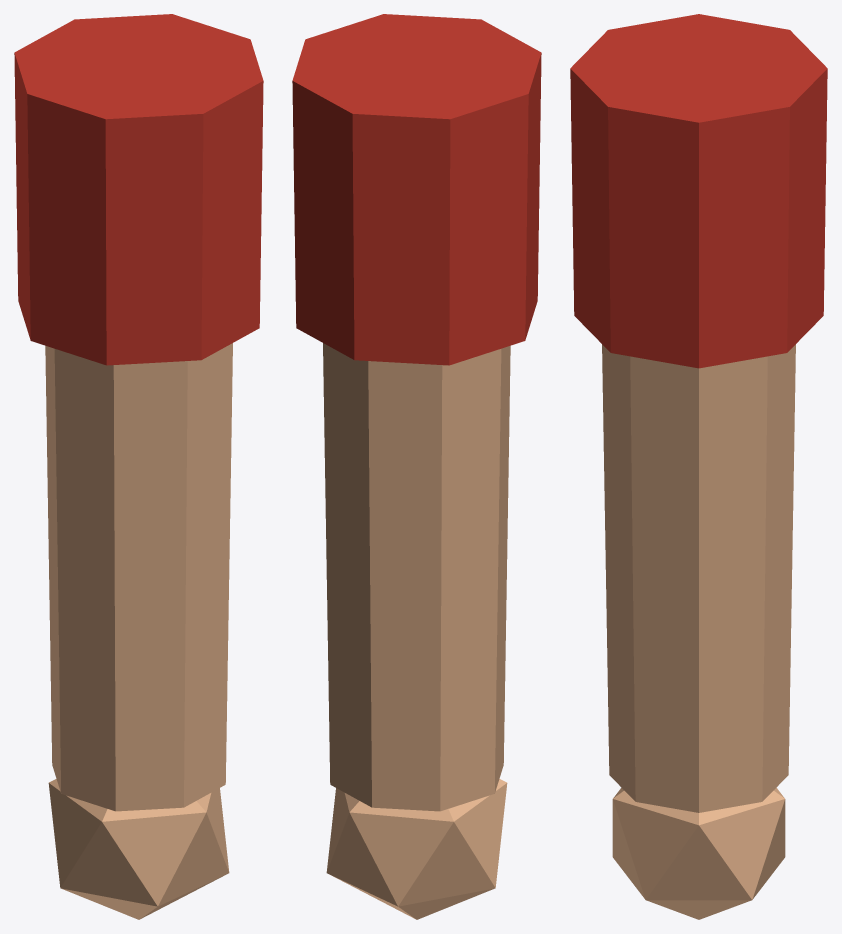
Rendered from insan_e0s_kol.glb.
The picture shows the model from 3 angles, left to right: view 1: azimuth 30°, elevation 25°; view 2: azimuth 150°, elevation 25°; view 3: azimuth 270°, elevation 25°; orthographic projection.
Visible parts, largest first — view 1: Cone; view 2: Cone; view 3: Cone.
Boxes of the visible parts, x1,y1,x2,y2 form: Cone: (14,14,263,919); Cone: (292,14,541,919); Cone: (570,14,827,919).
Size of the model in its own units: 0.033 by 0.1205 by 0.033.
